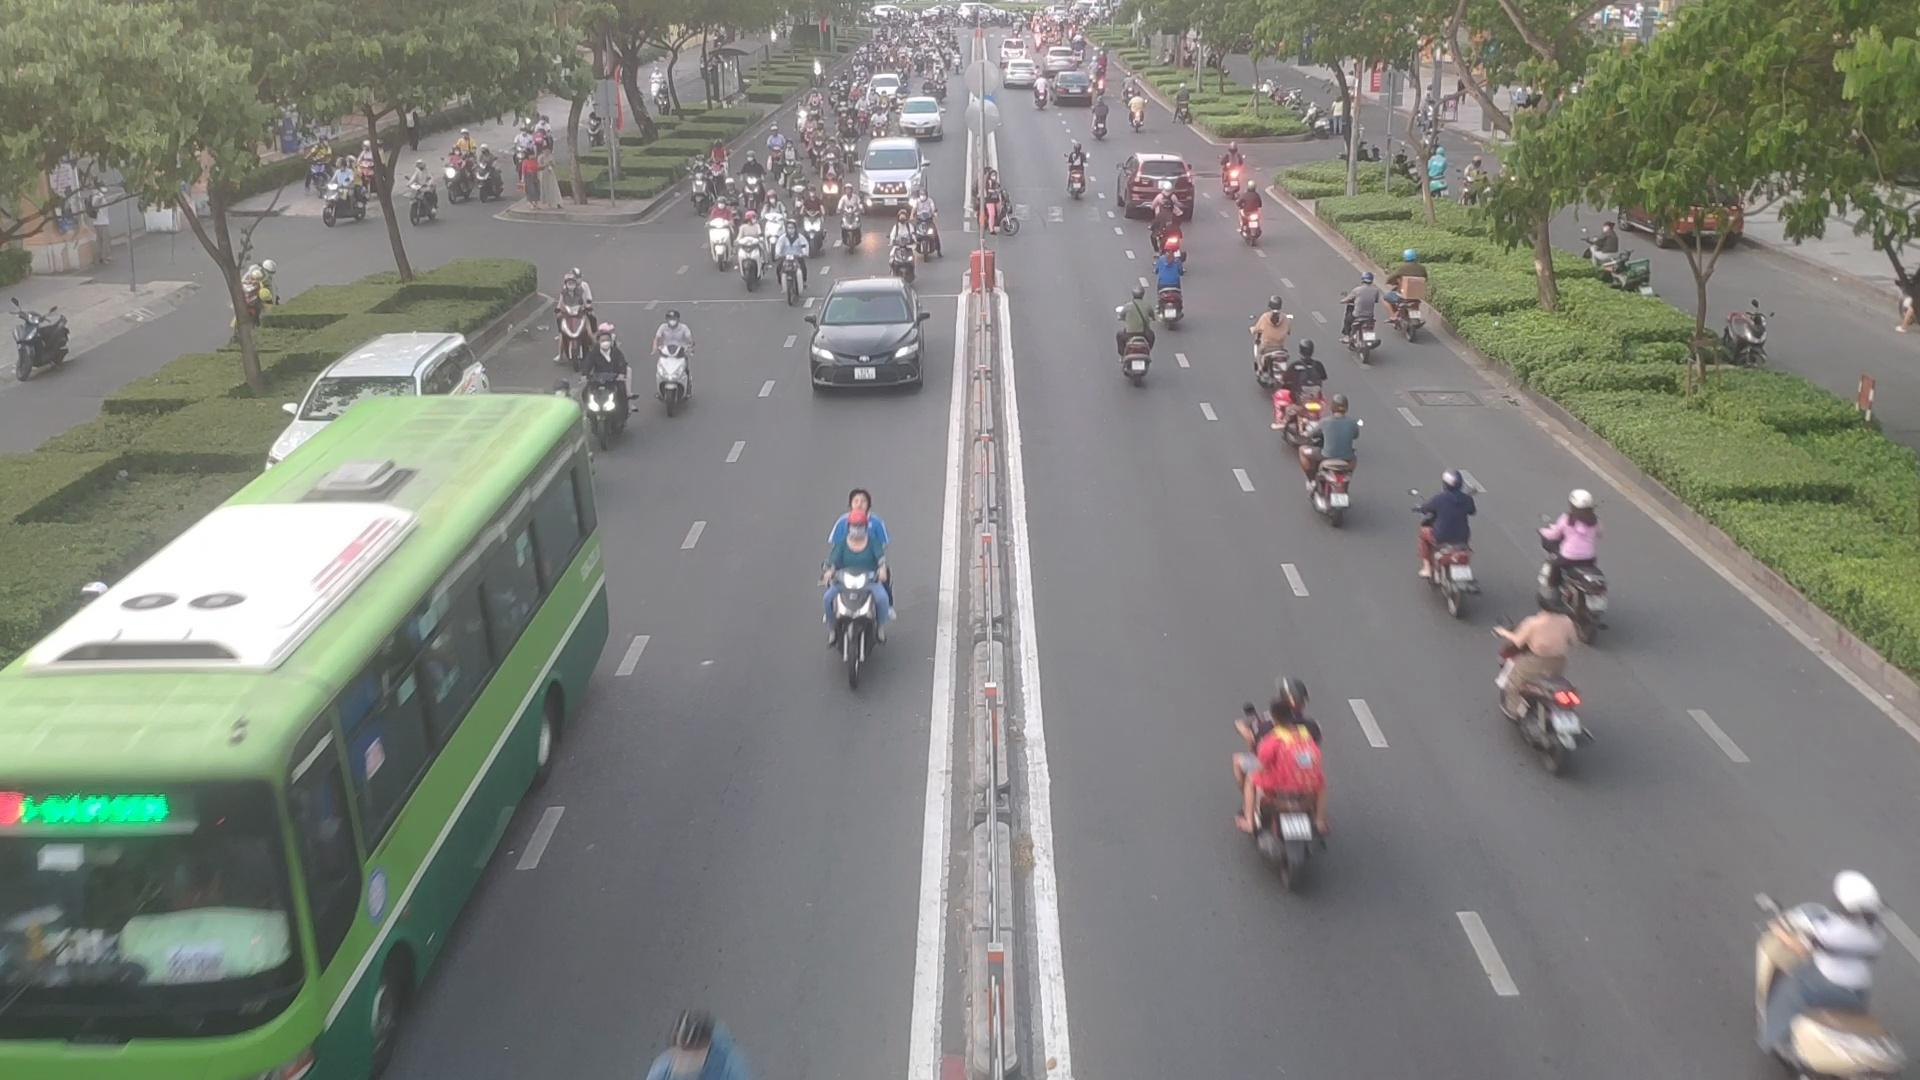bus: (0, 393, 593, 1080)
car: (799, 284, 926, 396), (1120, 149, 1193, 210)
motorbike: (1735, 868, 1903, 1076), (1226, 680, 1342, 881), (1490, 603, 1594, 774), (818, 495, 899, 695), (1416, 467, 1491, 611), (1534, 493, 1609, 630), (1294, 386, 1361, 520), (1379, 256, 1447, 344), (1247, 303, 1309, 396), (1106, 289, 1162, 388), (646, 313, 702, 411), (541, 272, 596, 363), (1333, 278, 1382, 363), (894, 196, 944, 269), (1137, 258, 1184, 331), (729, 219, 775, 291), (1059, 146, 1097, 204)
